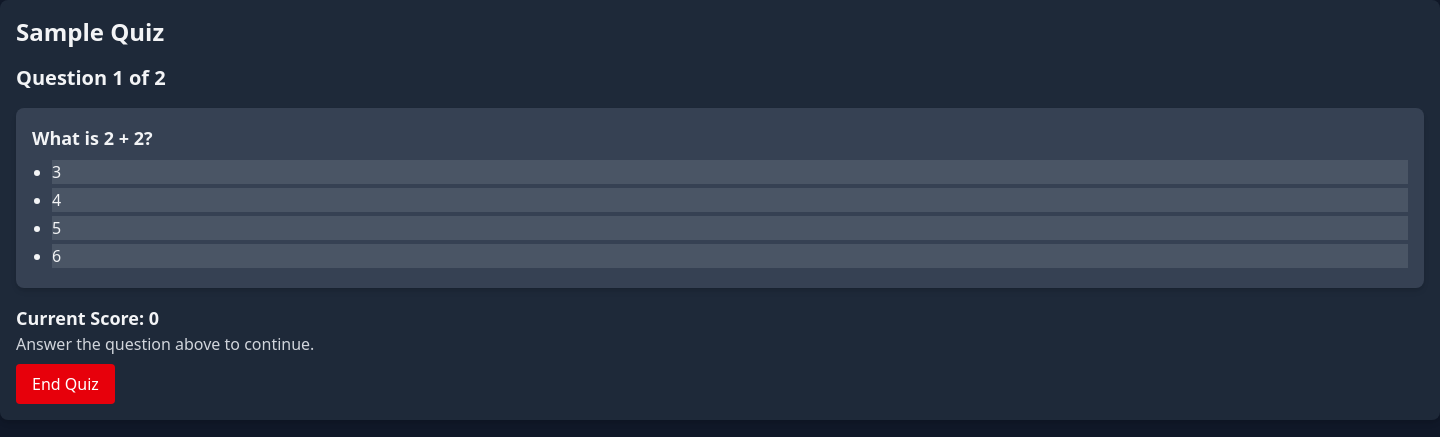
render Quiz components with title and questions
The width and height of the screenshot is (1440, 437).
Expected: the heading "Sample Quiz" is shown, [16, 15, 164, 48]
Expected: the heading "What is 2 + 2?" is shown, [32, 126, 152, 150]
What coordinates should you click on to do the following:
click the list item "4"
I would click on:
 (730, 200)
Its box is [52, 188, 1408, 212].
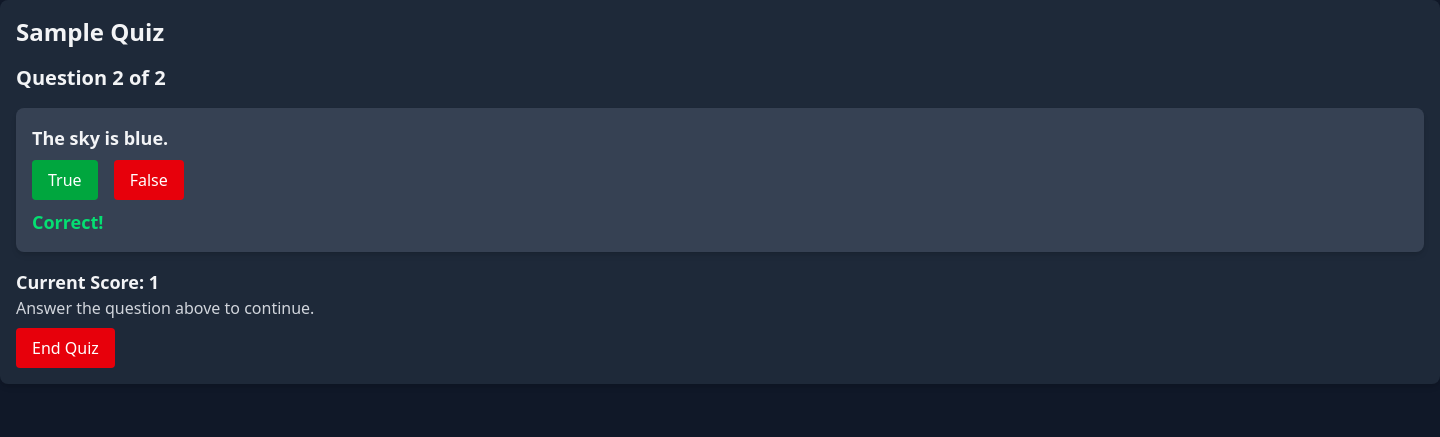
Expected: the heading "The sky is blue." is shown, [32, 126, 168, 150]
